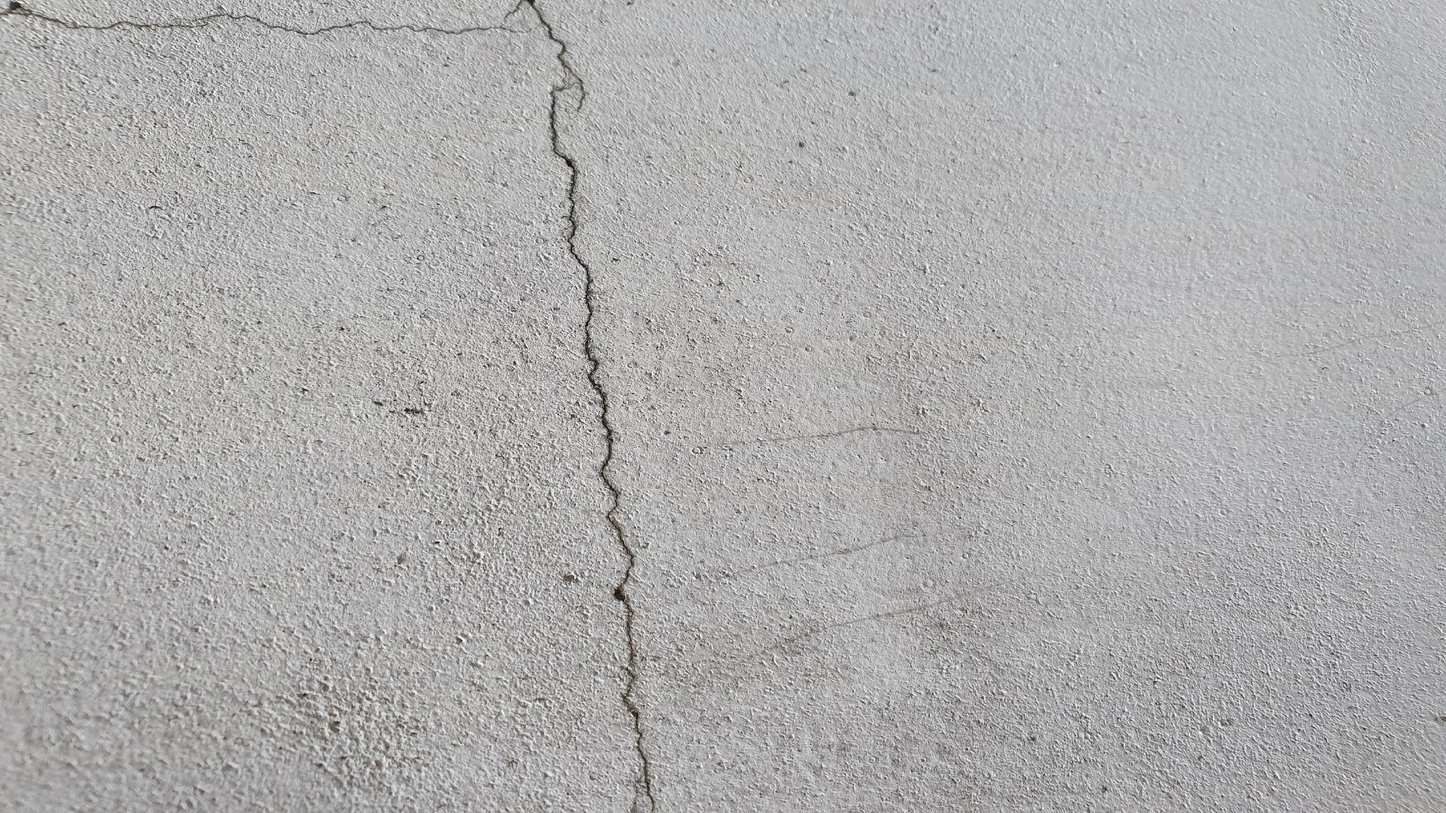crack: (3, 0, 659, 811)
